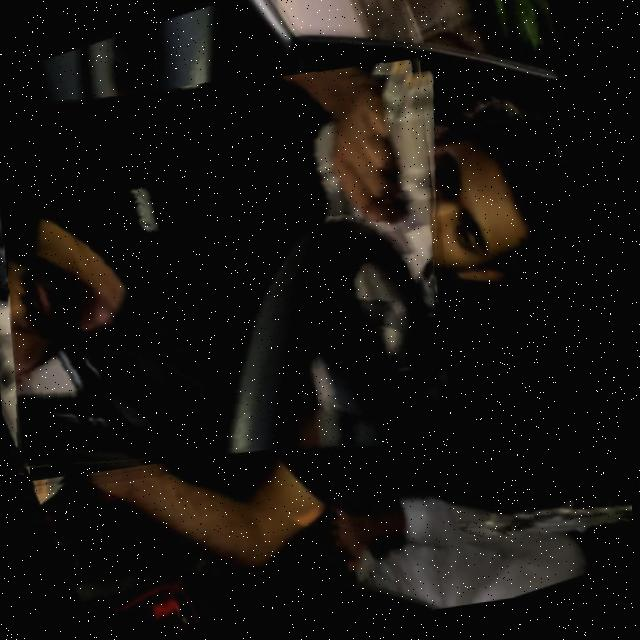no-seatbelt: (0, 51, 465, 495)
